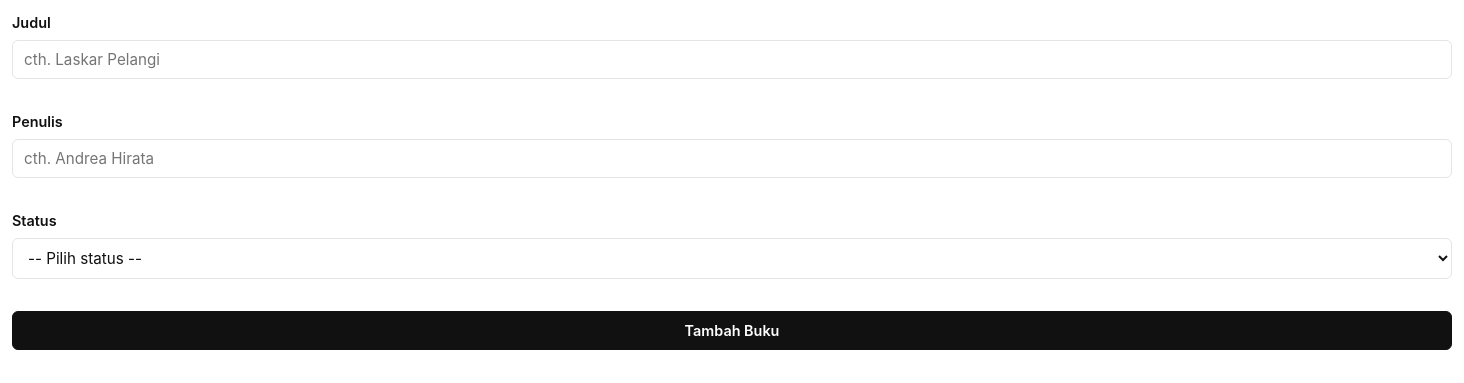
Scenario: BookForm › menampilkan pesan error dan tidak submit saat kolom kosong
What coordinates should you click on to do the following:
click the button "Tambah Buku"
I would click on:
 (732, 331)
Its box is [12,311,1452,350].
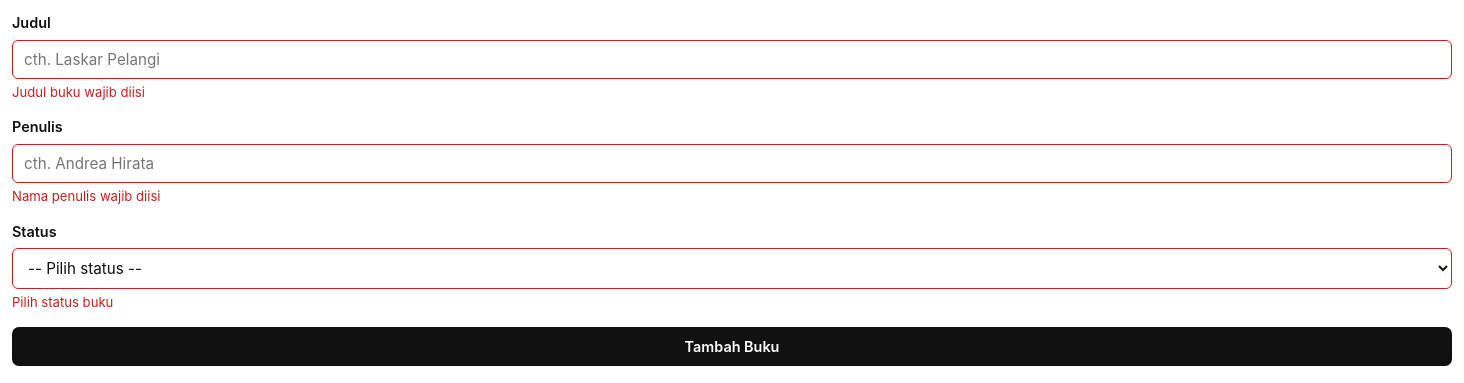
Now the text "Judul buku wajib diisi" is shown, box [12,84,145,100]
Now the text "Nama penulis wajib diisi" is shown, box [12,188,160,204]
Now the text "Pilih status buku" is shown, box [12,294,113,310]
